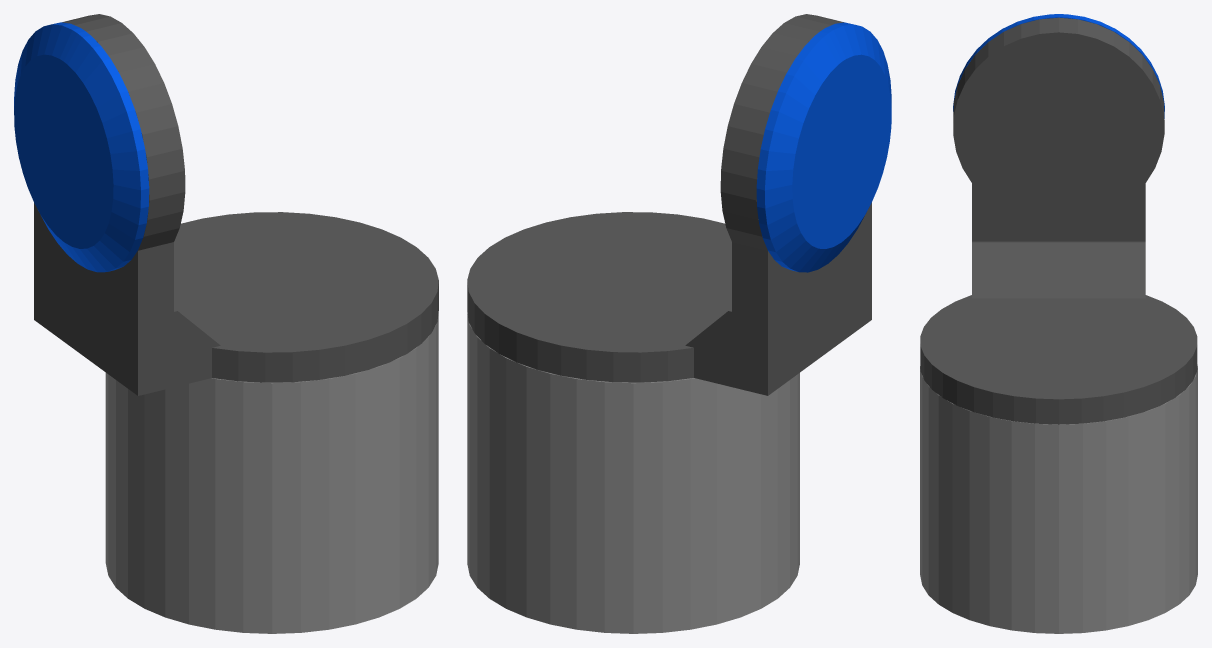
The model's file is arm_link_4.dae.
The picture shows the model from 3 angles, left to right: view 1: azimuth 30°, elevation 25°; view 2: azimuth 150°, elevation 25°; view 3: azimuth 270°, elevation 25°; orthographic projection. The views are drawn at different scales.
Visible parts, largest first — view 1: 关节模块, 轴关节支架, 大关节盖; view 2: 关节模块, 轴关节支架, 大关节盖; view 3: 轴关节支架, 关节模块, 大关节盖.
Boxes of the visible parts, x1,y1,x2,y2 form: 关节模块: [105, 314, 438, 633]; 轴关节支架: [34, 14, 438, 395]; 大关节盖: [14, 22, 149, 272]; 关节模块: [467, 312, 799, 633]; 轴关节支架: [467, 14, 871, 395]; 大关节盖: [756, 22, 891, 272]; 轴关节支架: [920, 17, 1197, 424]; 关节模块: [920, 364, 1197, 633]; 大关节盖: [953, 14, 1164, 118].
Bounding box in the file's own units: 0.0979 × 0.08 × 0.1532.
